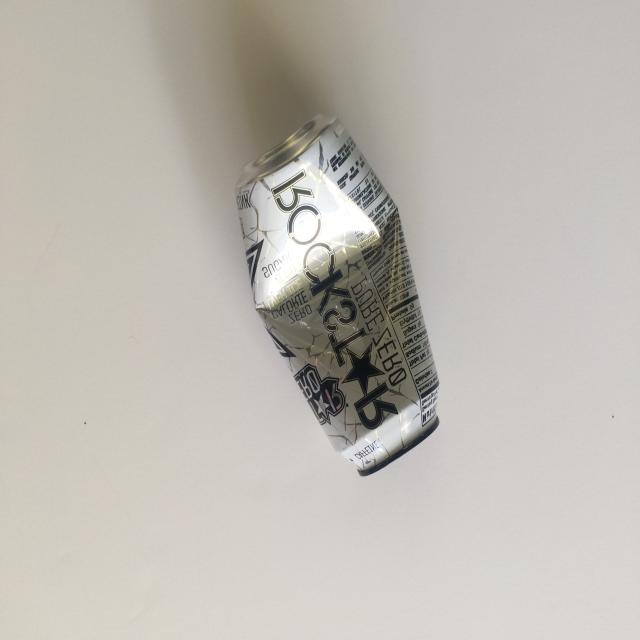metal: (234, 112, 441, 475)
